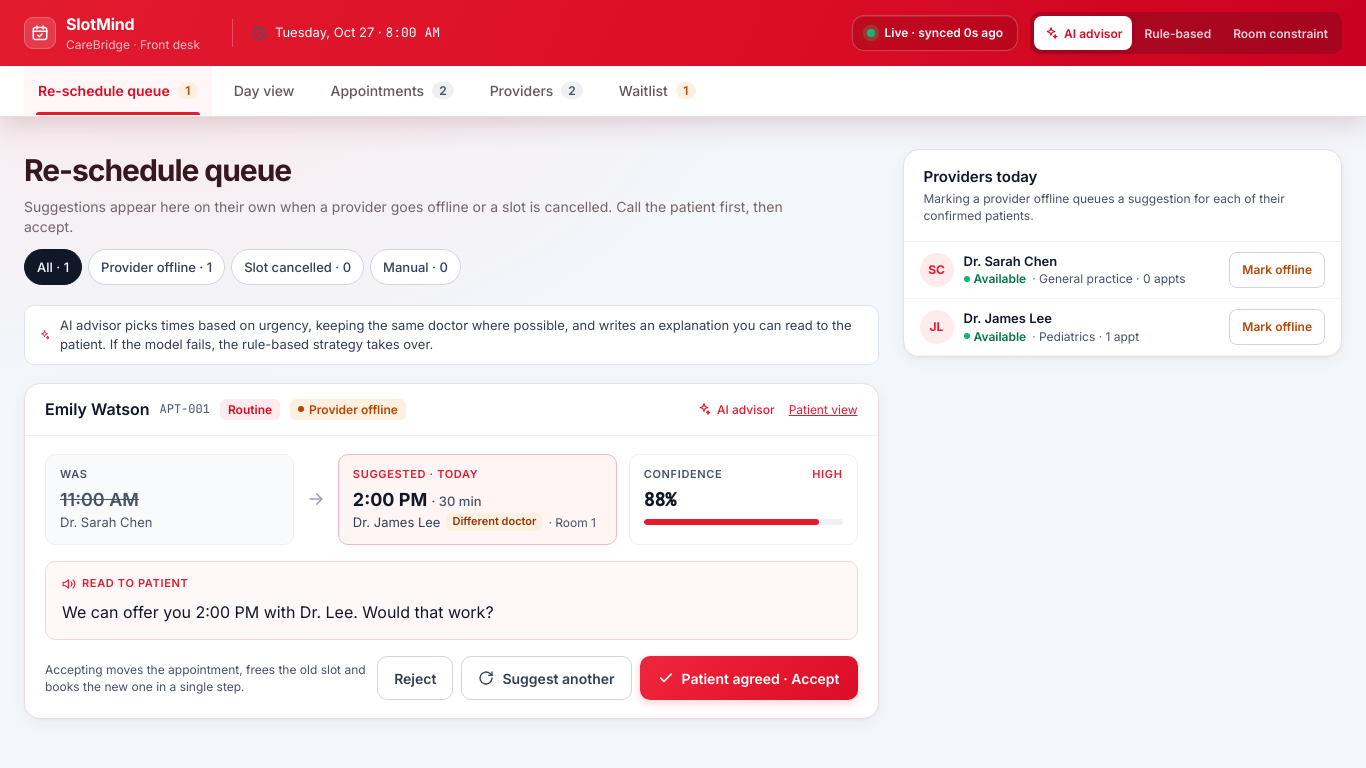
Test: Desk actions › accept: PATCH as STAFF, toast, then refresh
The width and height of the screenshot is (1366, 768).
Click the button "Patient agreed · Accept".
click(748, 678)  # box left=640, top=656, right=858, bottom=700
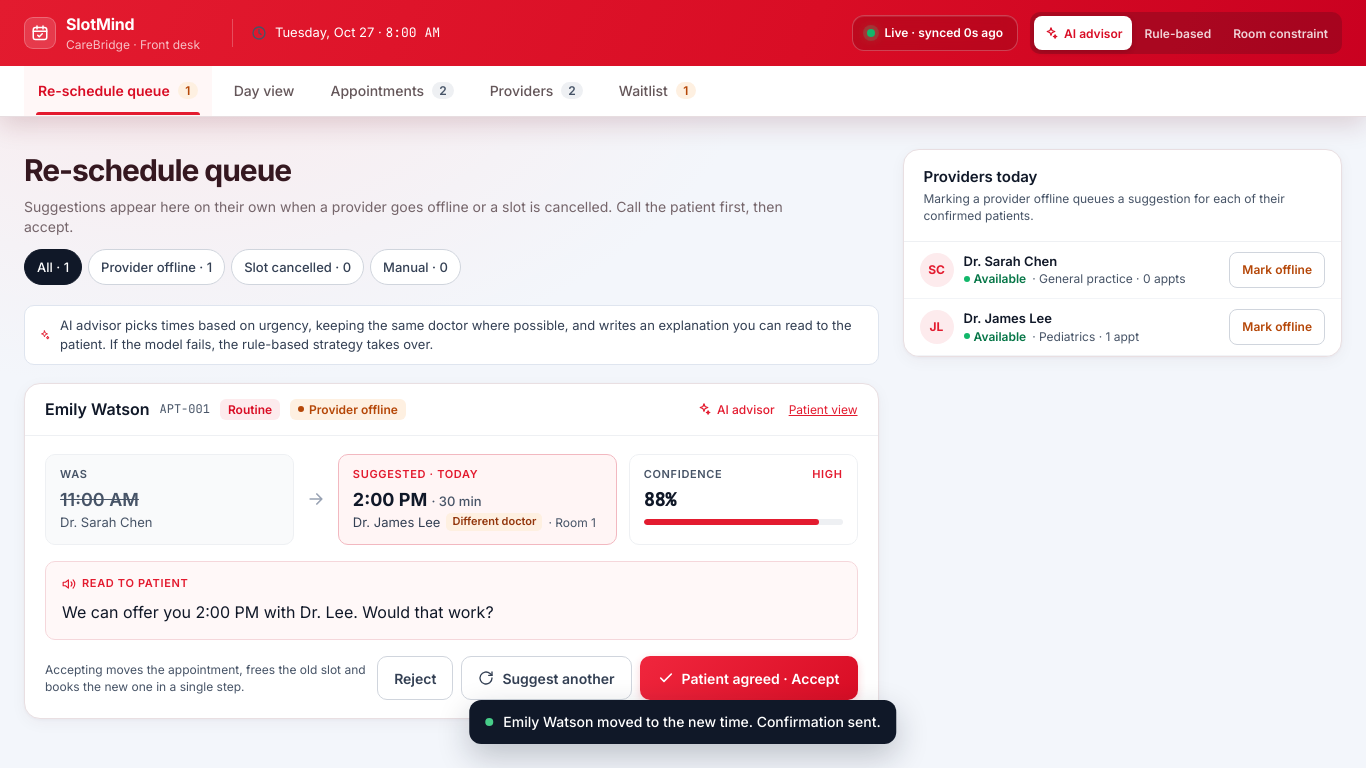
Check: the text "Emily Watson moved to the new time. Confirmation sent." is shown, box left=503, top=712, right=881, bottom=732
